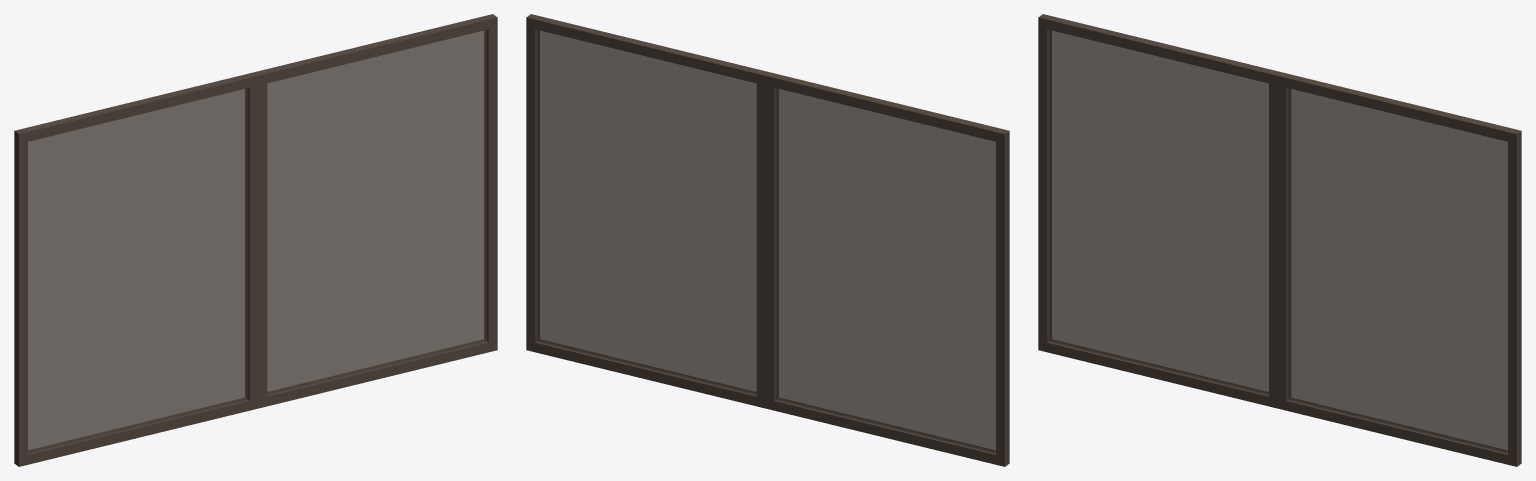
Rendered from Door_Entrance.glb.
The picture shows the model from 3 angles, left to right: view 1: azimuth 30°, elevation 25°; view 2: azimuth 150°, elevation 25°; view 3: azimuth 330°, elevation 25°; orthographic projection.
Visible parts, largest first — view 1: DoorLeft, DoorRight; view 2: DoorLeft, DoorRight; view 3: DoorRight, DoorLeft.
Boxes of the visible parts, box(x1,y1,x2,y2) form: DoorLeft: box(14, 72, 258, 466); DoorRight: box(254, 14, 497, 408); DoorLeft: box(765, 72, 1009, 466); DoorRight: box(526, 14, 769, 408); DoorRight: box(1277, 72, 1521, 466); DoorLeft: box(1038, 14, 1281, 408).
Size of what is drawn, in the model's own units: 7.96 by 5.29 by 0.1366.
Materials: 2 (2 with a texture image).
